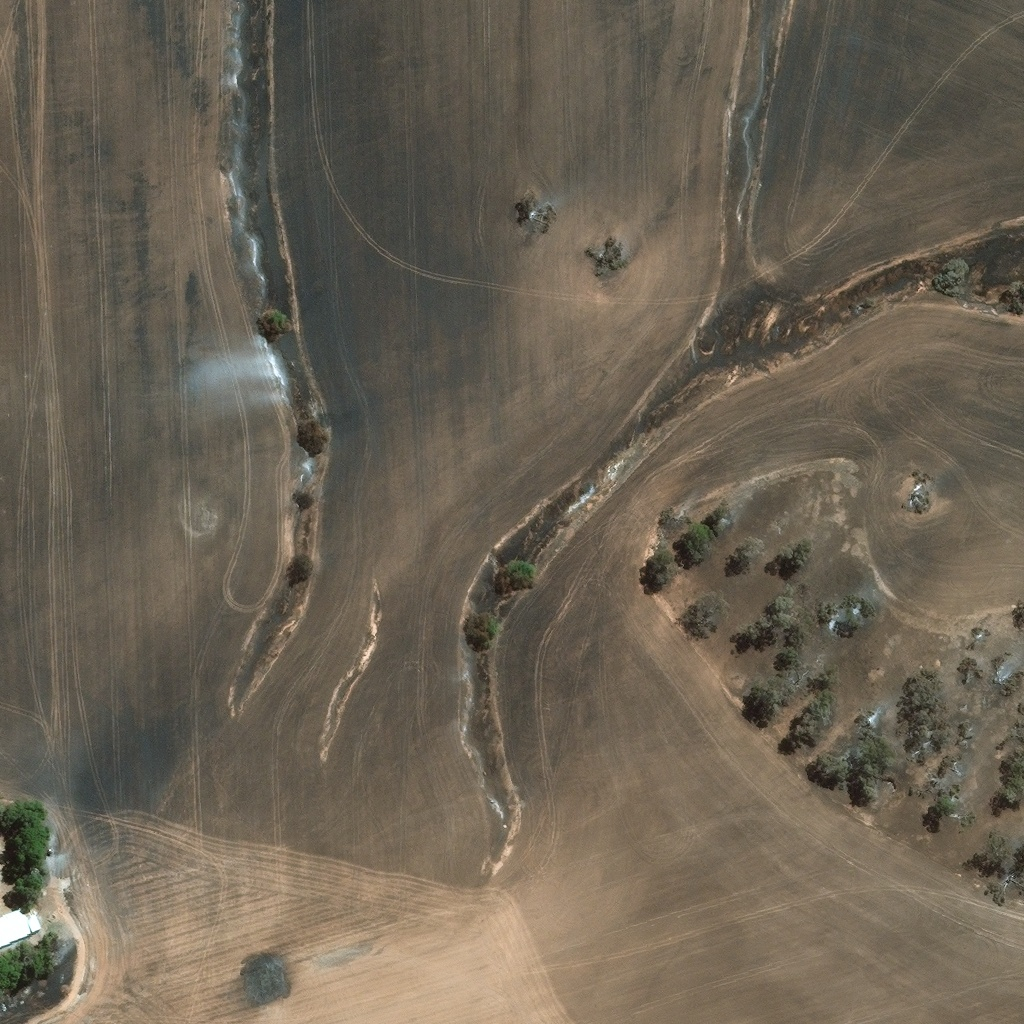0 no-damage: (0, 907, 30, 947)
